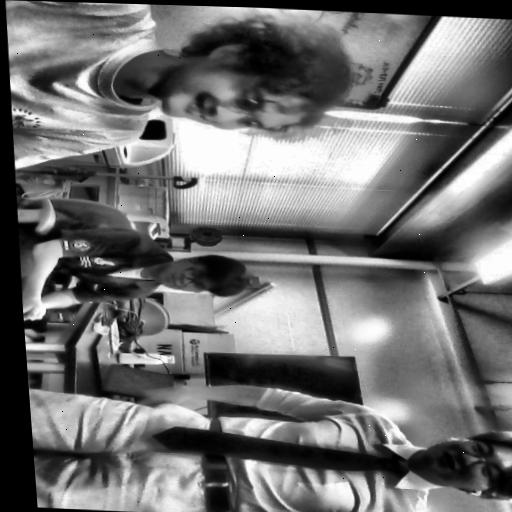Daifuku: (129, 10, 350, 146)
Not Daifuku: (421, 428, 512, 505), (143, 253, 256, 296)
